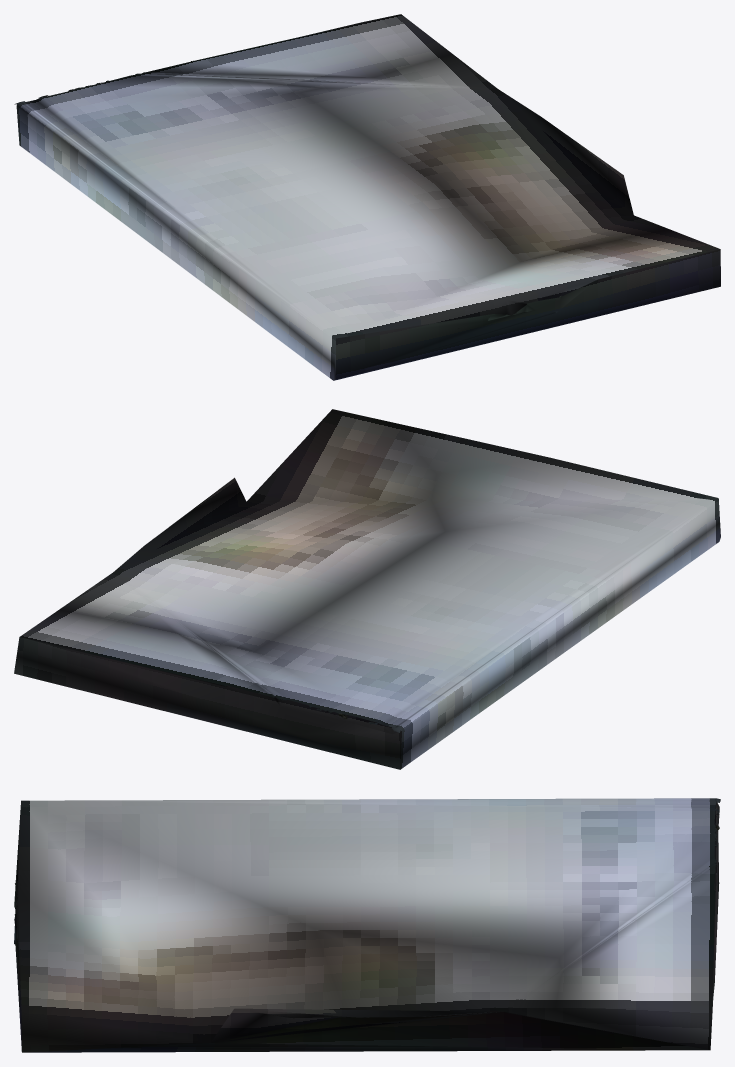
File: Blue_Jasmine_Includes_Digital_Copy_UltraViolet_DVD-low.glb
3 views of the same model, one above another, from view 1: azimuth 30°, elevation 25°; view 2: azimuth 150°, elevation 25°; view 3: azimuth 270°, elevation 25° (orthographic). The views are drawn at different scales.
Parts seen in each view (by area): view 1: Blue_Jasmine_Includes_Digital_Copy_UltraViolet_DVD; view 2: Blue_Jasmine_Includes_Digital_Copy_UltraViolet_DVD; view 3: Blue_Jasmine_Includes_Digital_Copy_UltraViolet_DVD.
Part boxes in pixels (x1,y1,x2,y2): Blue_Jasmine_Includes_Digital_Copy_UltraViolet_DVD: (14,14,720,380); Blue_Jasmine_Includes_Digital_Copy_UltraViolet_DVD: (14,409,720,769); Blue_Jasmine_Includes_Digital_Copy_UltraViolet_DVD: (14,798,720,1052).
Size of the model in its own units: 0.1348 by 0.0153 by 0.1928.
1 material, 1 textured.
